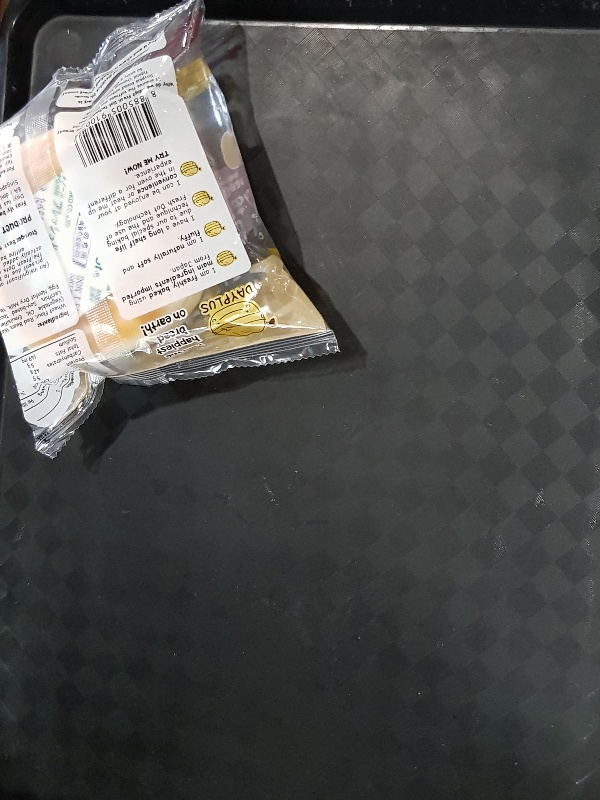Dayplus Red Bean: (1, 1, 340, 460)
